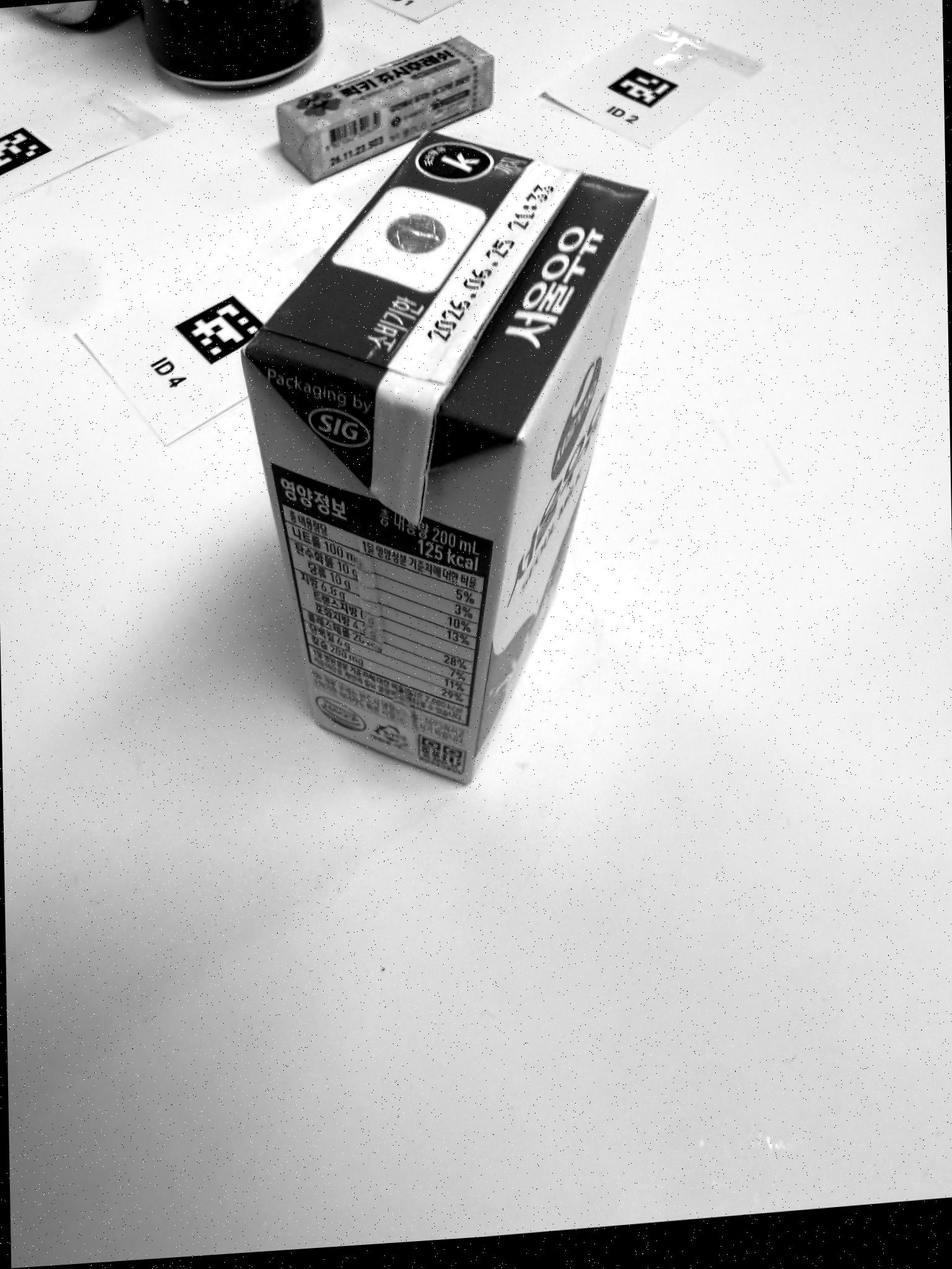milk_green: (244, 132, 653, 782)
